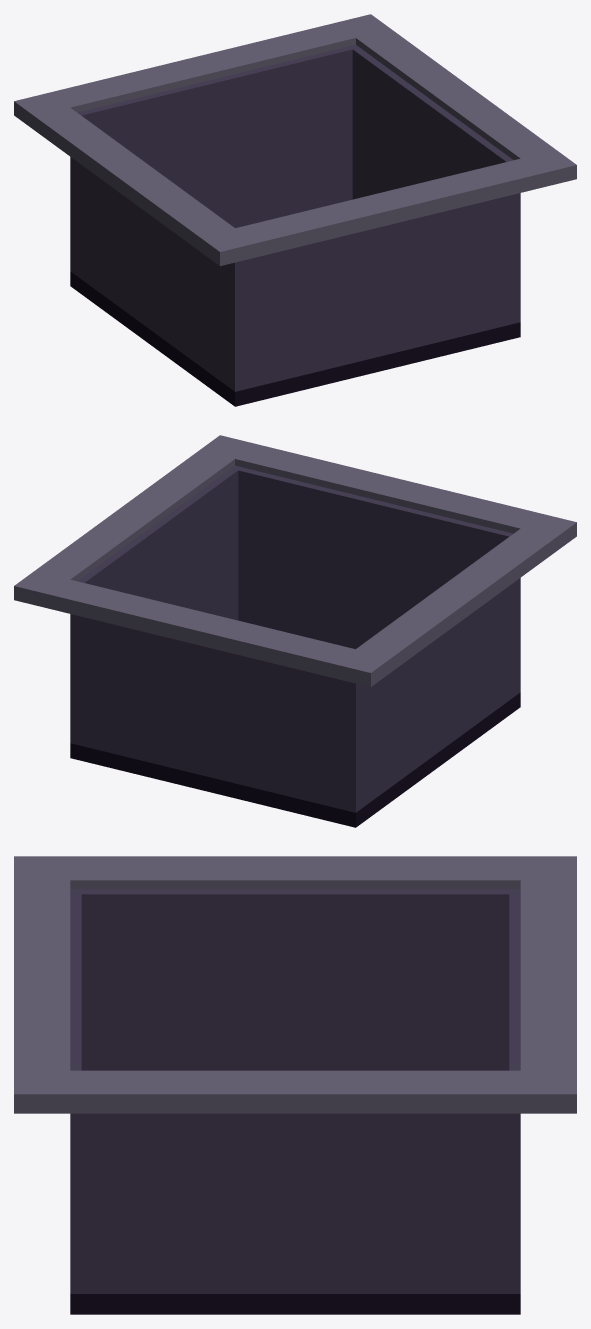
File: abyss_lowpoly.glb
3 renders of one model, top to bottom at view 1: azimuth 30°, elevation 25°; view 2: azimuth 150°, elevation 25°; view 3: azimuth 270°, elevation 25°, orthographic. The views are drawn at different scales.
Visible parts, largest first — view 1: AbyssTile; view 2: AbyssTile; view 3: AbyssTile.
Boxes of the visible parts, x1,y1,x2,y2 form: AbyssTile: (14, 14, 576, 406); AbyssTile: (14, 435, 576, 827); AbyssTile: (14, 856, 576, 1314).
Bounding box in the file's own units: 1 × 0.478 × 1.
